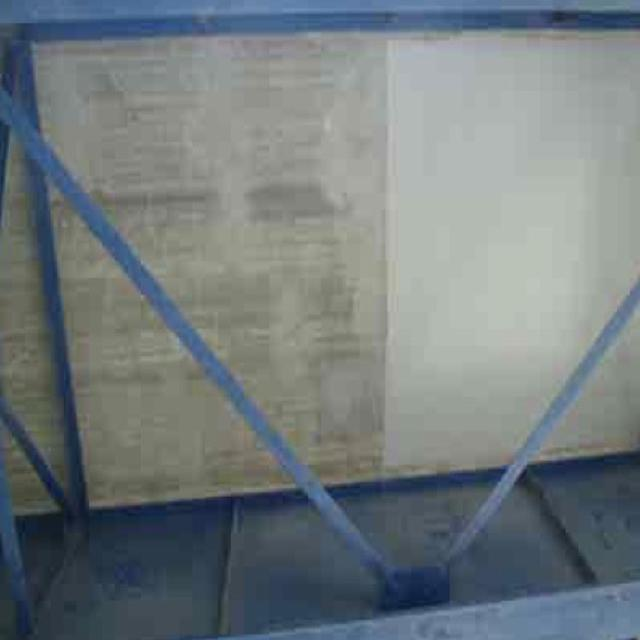crack: (375, 41, 405, 474)
